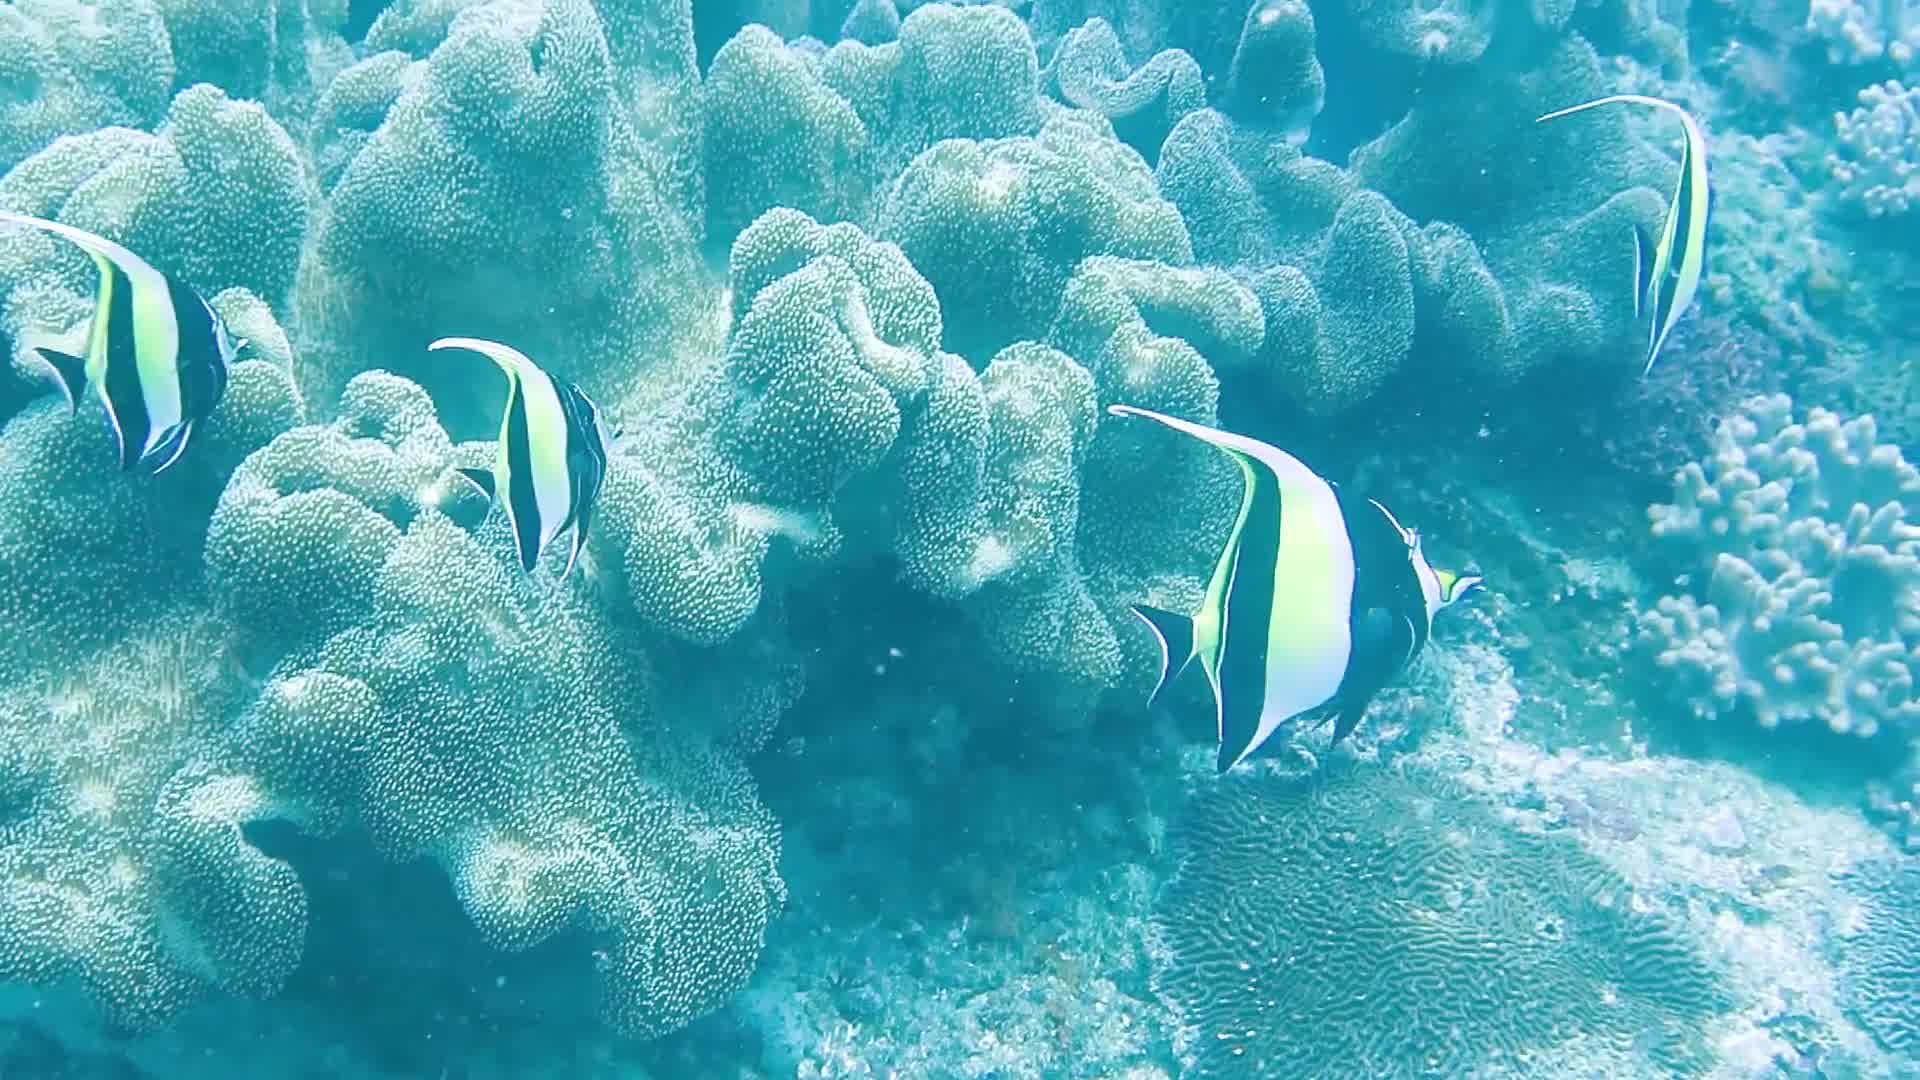Zanclus cornutus: (1155, 423, 1447, 764), (12, 214, 245, 496), (419, 338, 651, 620)
